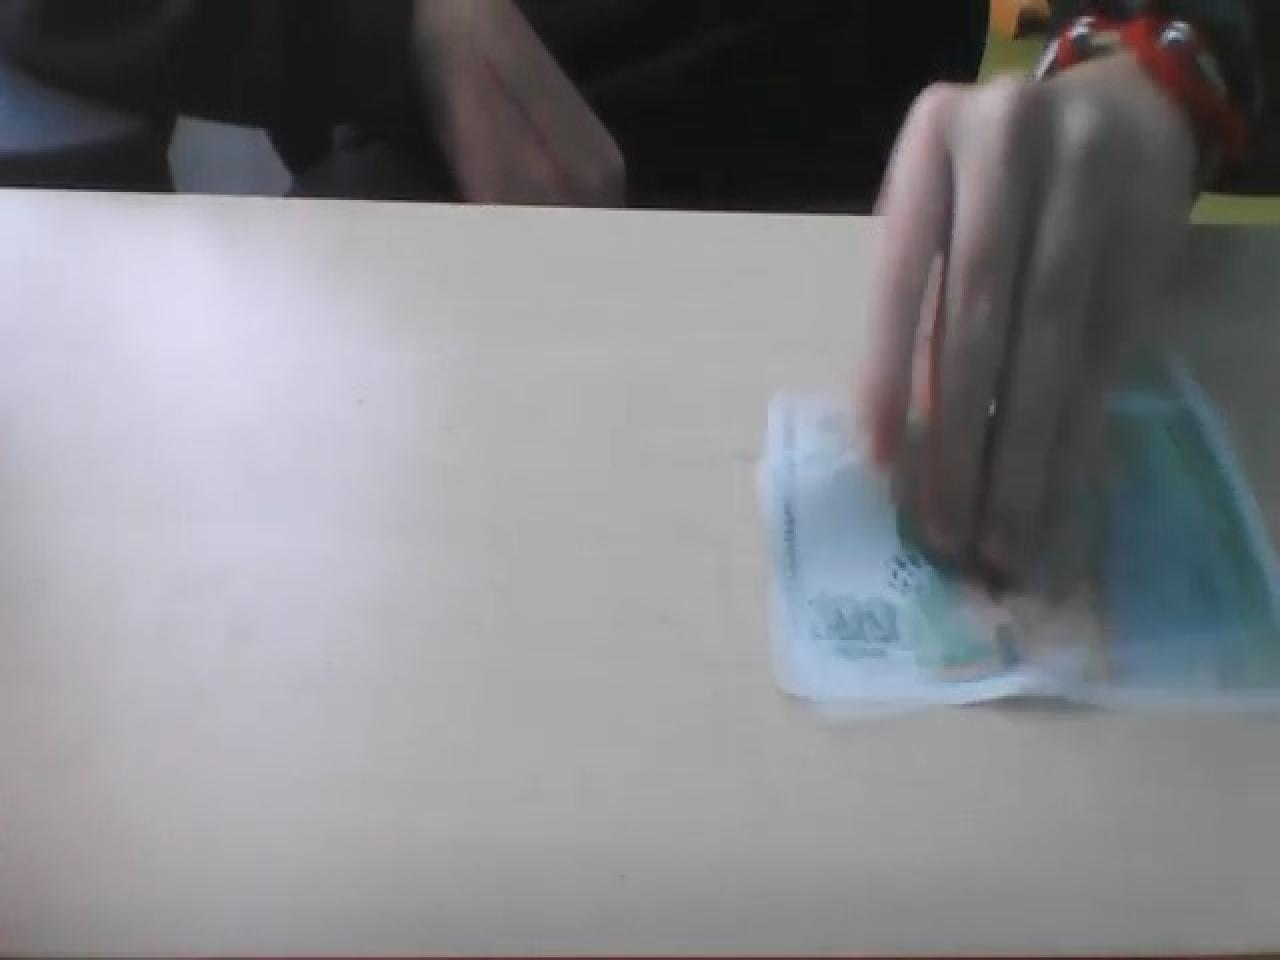100leva: (756, 339, 1276, 712), (758, 387, 1026, 704)
